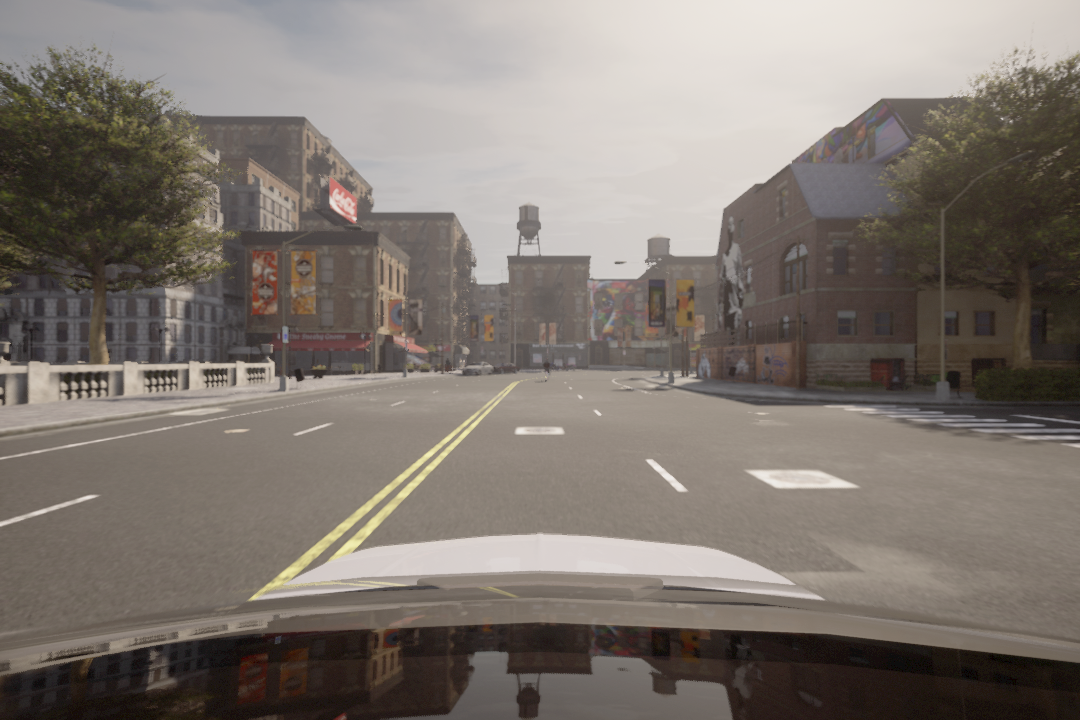walkside: (827, 403, 1079, 453)
